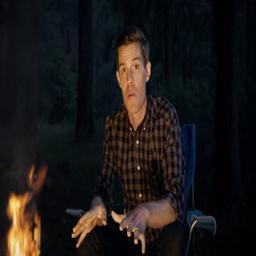fire: (6, 166, 47, 256)
